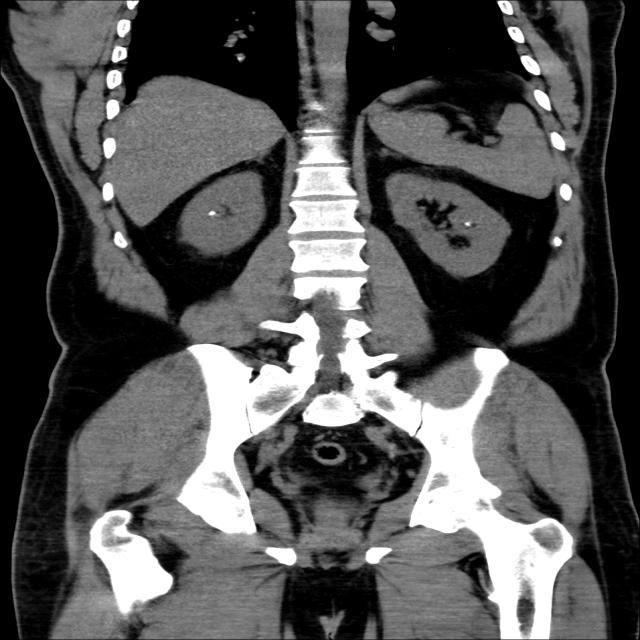kidneystone: (208, 210, 218, 216)
